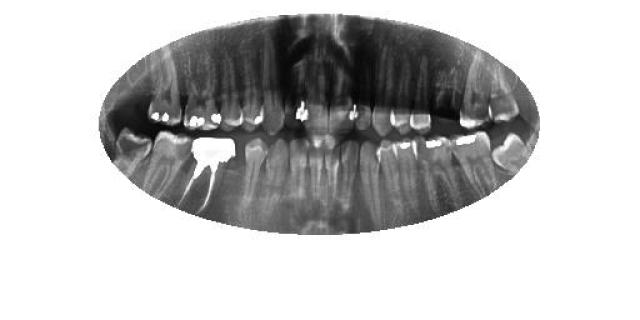Cavity: (110, 125, 152, 180)
Fillings: (410, 132, 460, 214), (182, 51, 222, 132), (449, 132, 499, 196), (145, 44, 183, 126), (392, 136, 420, 218)
Implant: (176, 138, 234, 216)
Restorations: (494, 133, 530, 175)
